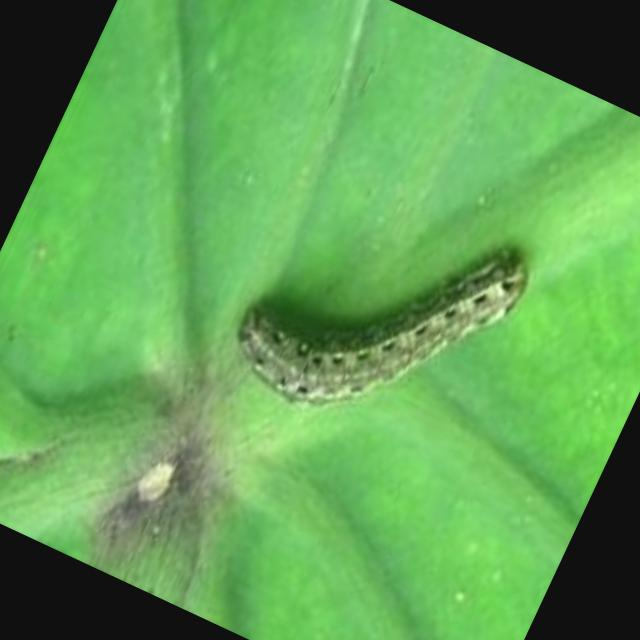Tobacco cutworm: (166, 128, 564, 523)
